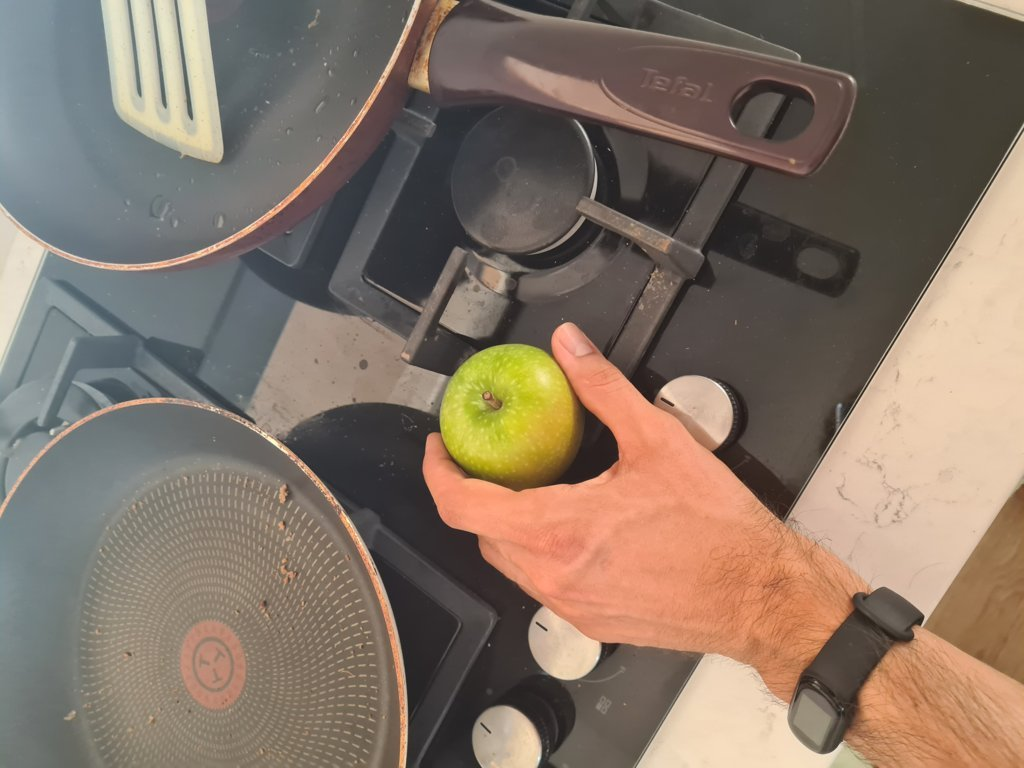apple: (438, 343, 583, 485)
